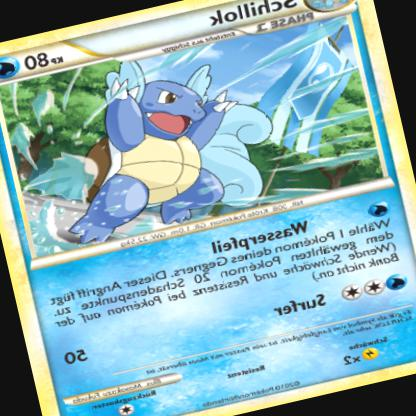Wartortle: (36, 42, 278, 247)
